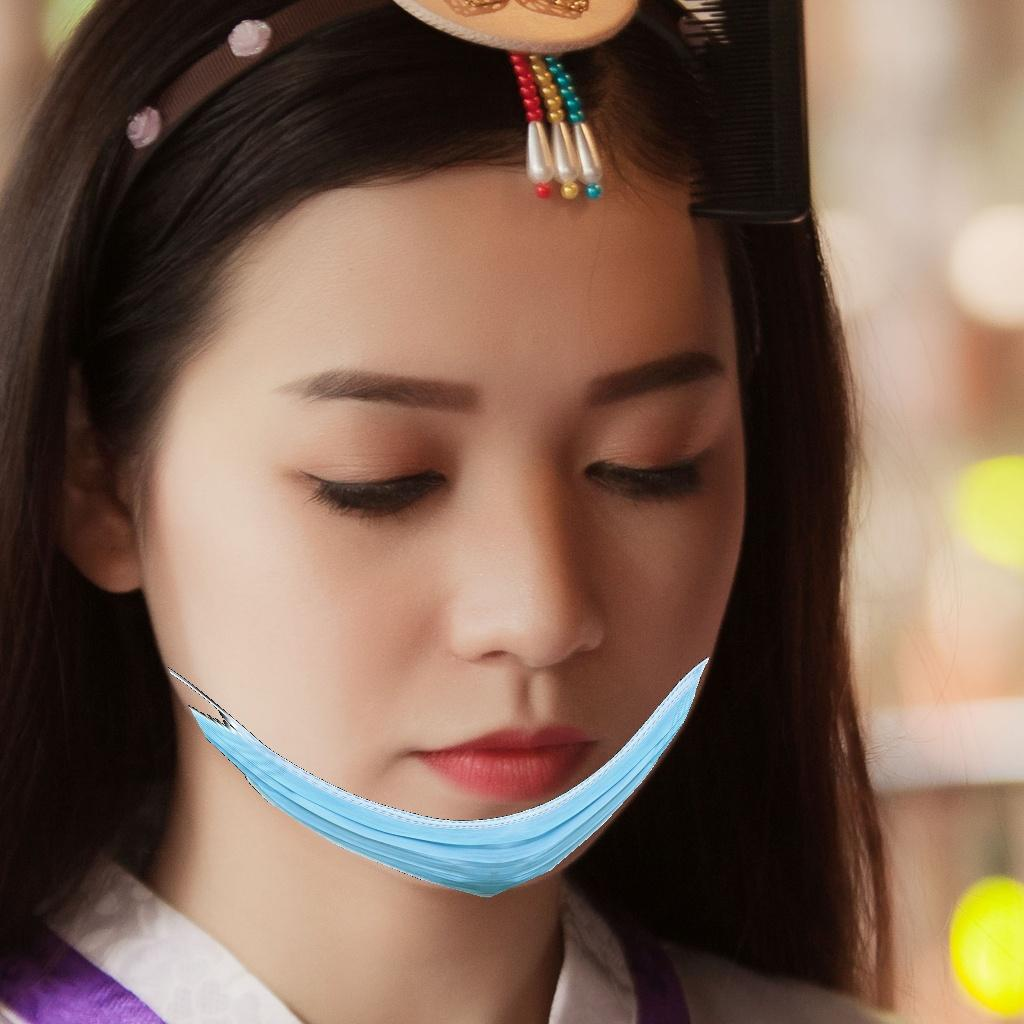Máscara Incorreta: (175, 345, 735, 881)
